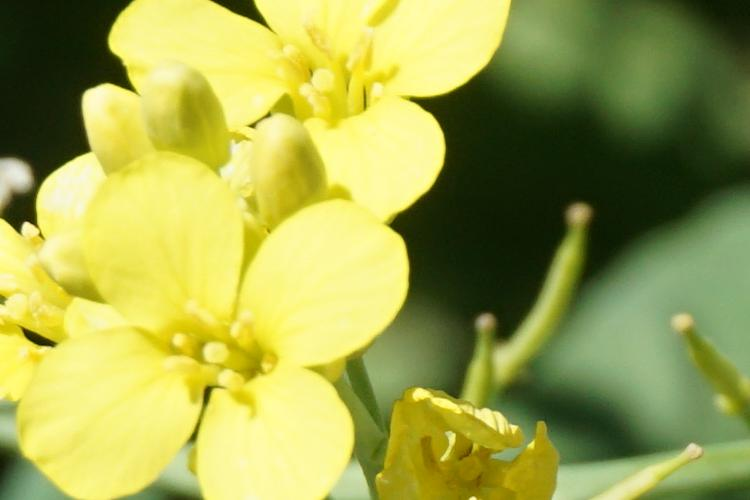bud: (140, 68, 233, 164), (248, 125, 325, 229), (78, 78, 146, 174), (34, 239, 101, 303)
pod: (496, 200, 598, 382), (564, 437, 705, 500), (672, 312, 749, 424), (470, 311, 495, 404)
yellow: (60, 182, 399, 497), (109, 6, 497, 194), (379, 384, 560, 500)
